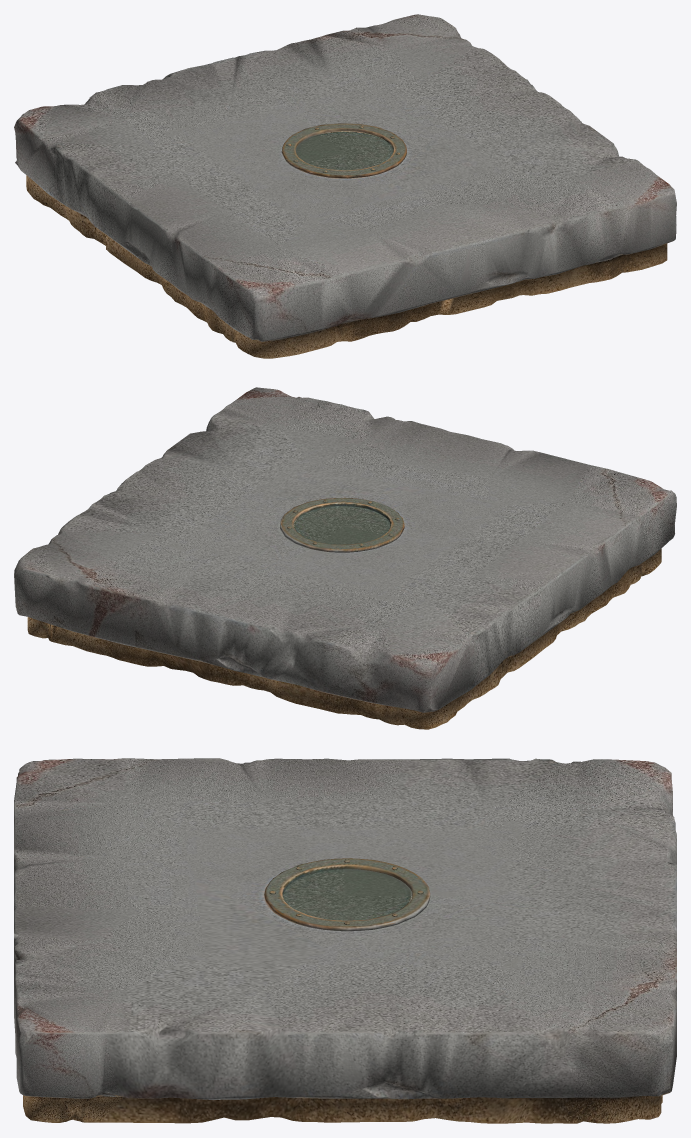
File: tripo_convert_e89bcad4-21fc-496d-8022-652e761719c5.fbx
3 views of the same model, one above another, from view 1: azimuth 30°, elevation 25°; view 2: azimuth 150°, elevation 25°; view 3: azimuth 270°, elevation 25° (orthographic). The views are drawn at different scales.
Visible parts, largest first — view 1: tripo_node_e89bcad4; view 2: tripo_node_e89bcad4; view 3: tripo_node_e89bcad4.
Part boxes in pixels (x1,y1,x2,y2): tripo_node_e89bcad4: (14, 14, 676, 358); tripo_node_e89bcad4: (14, 387, 676, 729); tripo_node_e89bcad4: (14, 758, 676, 1123).
Bounding box in the file's own units: 0.9785 × 0.168 × 0.998.
1 material, 1 textured.
